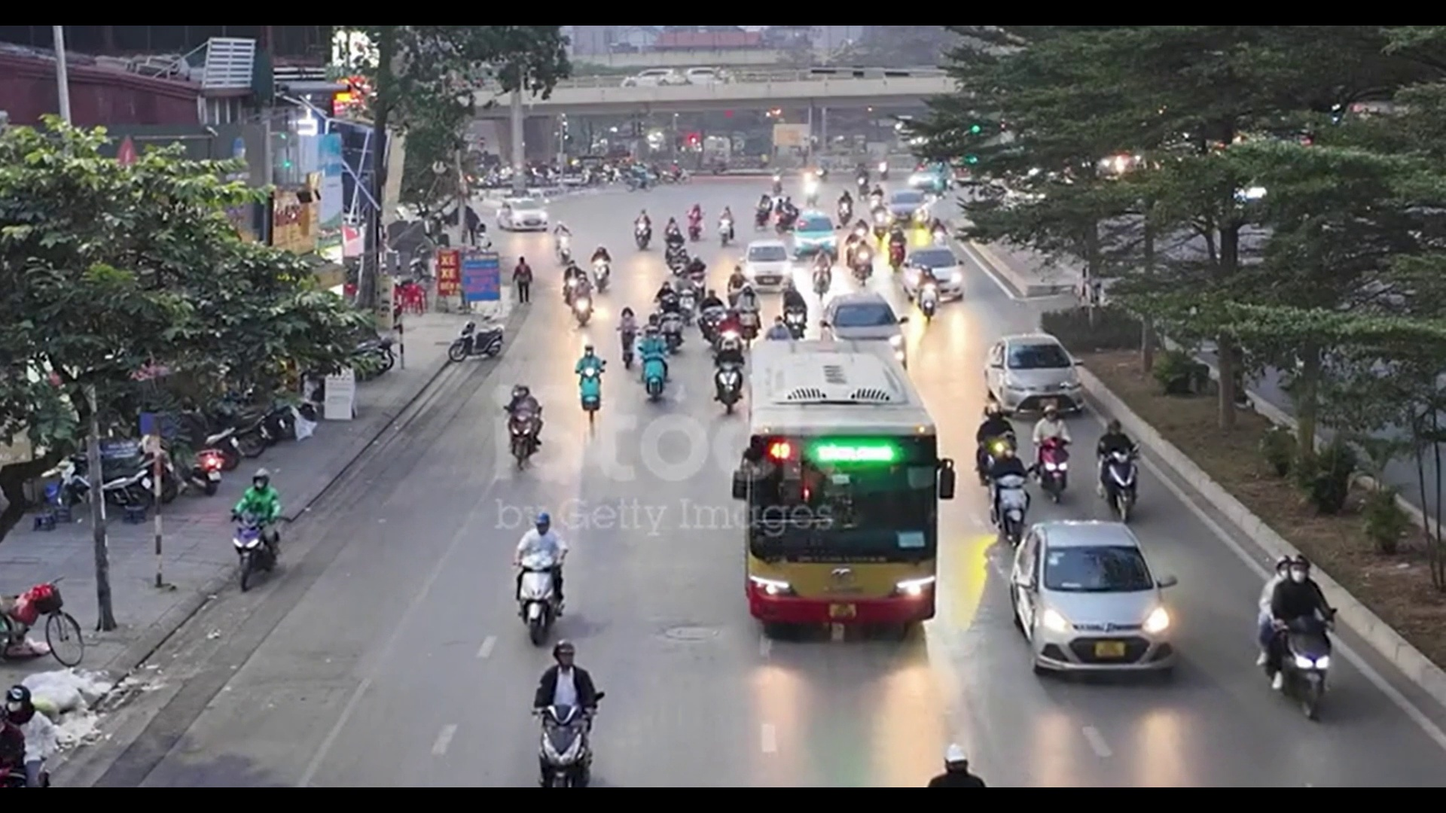bus: (733, 347, 943, 639)
car: (1005, 518, 1184, 677), (983, 334, 1085, 415), (824, 295, 907, 365), (823, 293, 904, 347), (903, 244, 966, 305), (741, 240, 794, 286)
motorcycle: (1258, 611, 1334, 721), (0, 580, 87, 668), (535, 690, 603, 787), (536, 707, 595, 789), (231, 517, 282, 593), (517, 573, 565, 649), (1097, 437, 1139, 523)
